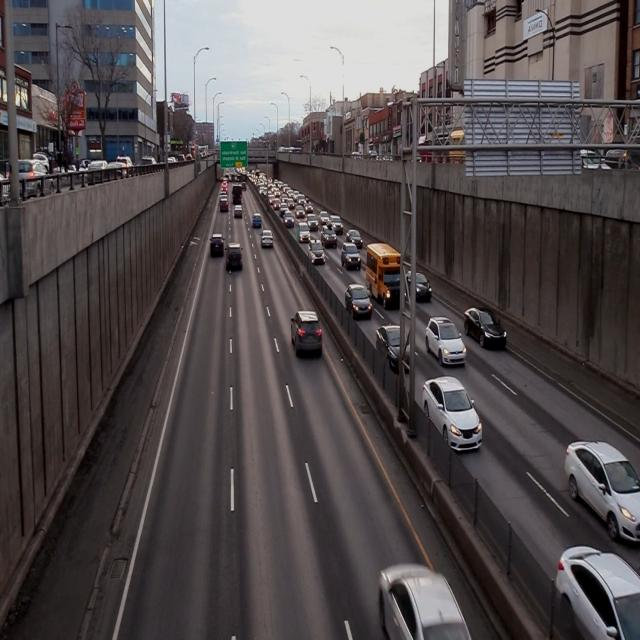Vehicle: (562, 439, 640, 542), (421, 376, 482, 459), (365, 240, 408, 310), (464, 299, 509, 356), (424, 314, 466, 371), (288, 308, 324, 358), (345, 287, 373, 320), (224, 243, 243, 274), (260, 231, 273, 249)
